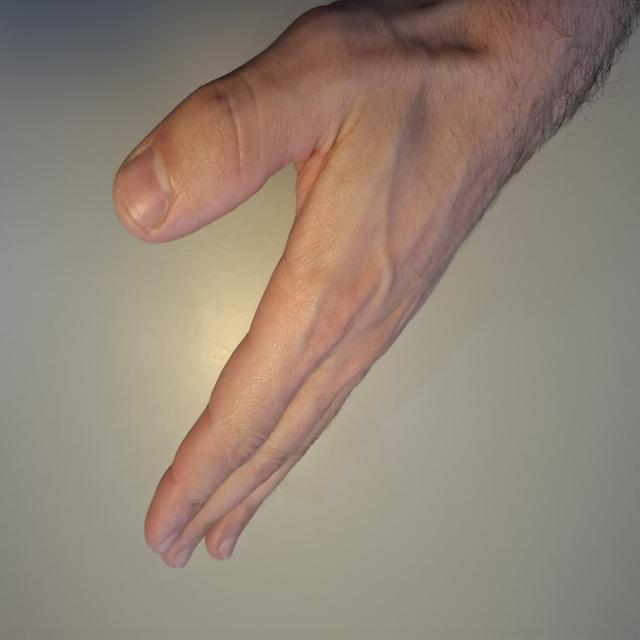glove_off: (108, 1, 566, 576)
